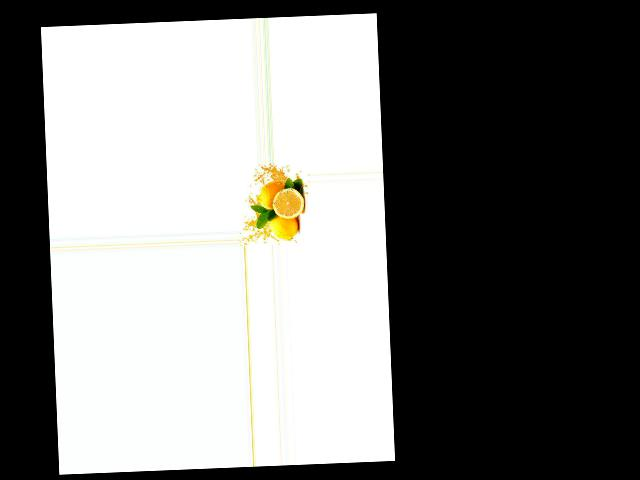lemon: (266, 208, 300, 239)
